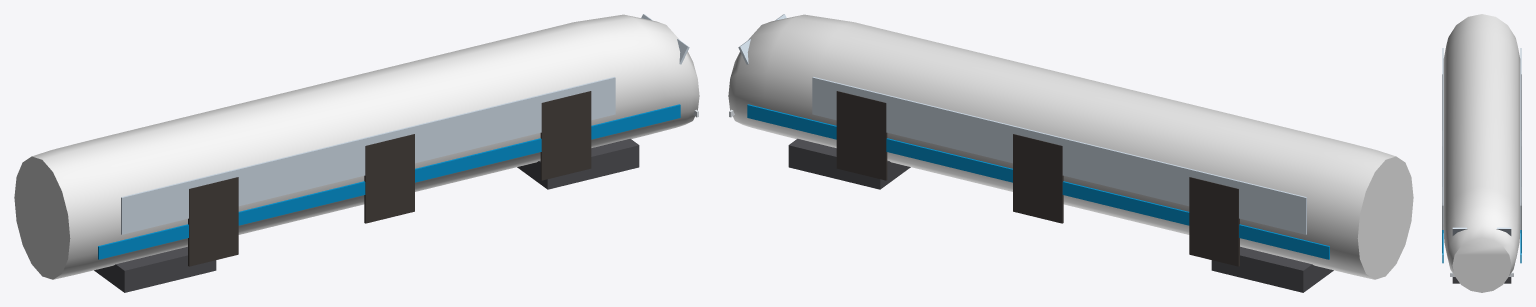
Rendered from SM_MetroCar.fbx.
The picture shows the model from 3 angles, left to right: view 1: azimuth 30°, elevation 25°; view 2: azimuth 150°, elevation 25°; view 3: azimuth 270°, elevation 25°; orthographic projection. The views are drawn at different scales.
Parts seen in each view (by area): view 1: SM_MetroCar; view 2: SM_MetroCar; view 3: SM_MetroCar.
Boxes of the visible parts, left/top/right/bottom form: SM_MetroCar: left=14, top=14, right=699, bottom=292; SM_MetroCar: left=728, top=14, right=1413, bottom=292; SM_MetroCar: left=1442, top=14, right=1521, bottom=292.
Bounding box in the file's own units: 1800 × 360 × 300.
